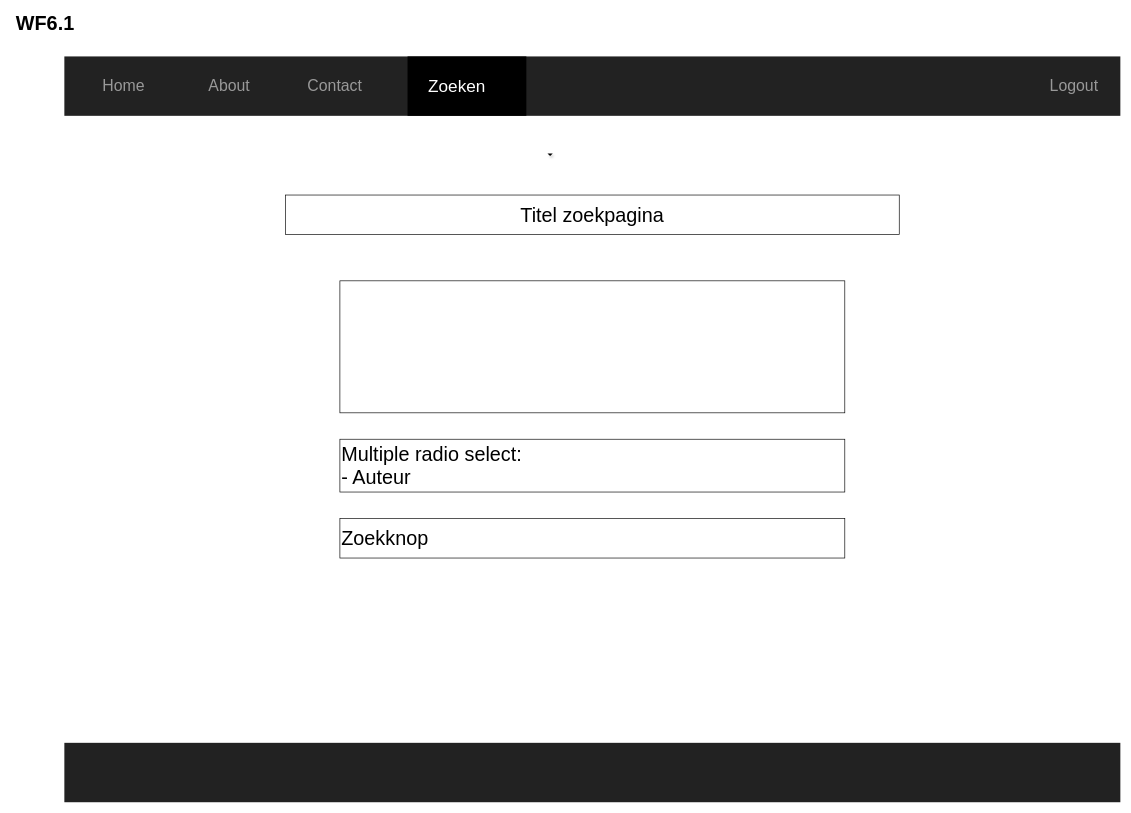
The diagram is 1131 pixels wide and 813 high, and some of its shapes have lost their labels. Each missing label, with the centre of its shape:
"Footer tekst" belongs at point (592, 772).
"Multiple radio select: - Tag - Tag 2 - Tag 3" belongs at point (592, 346).
